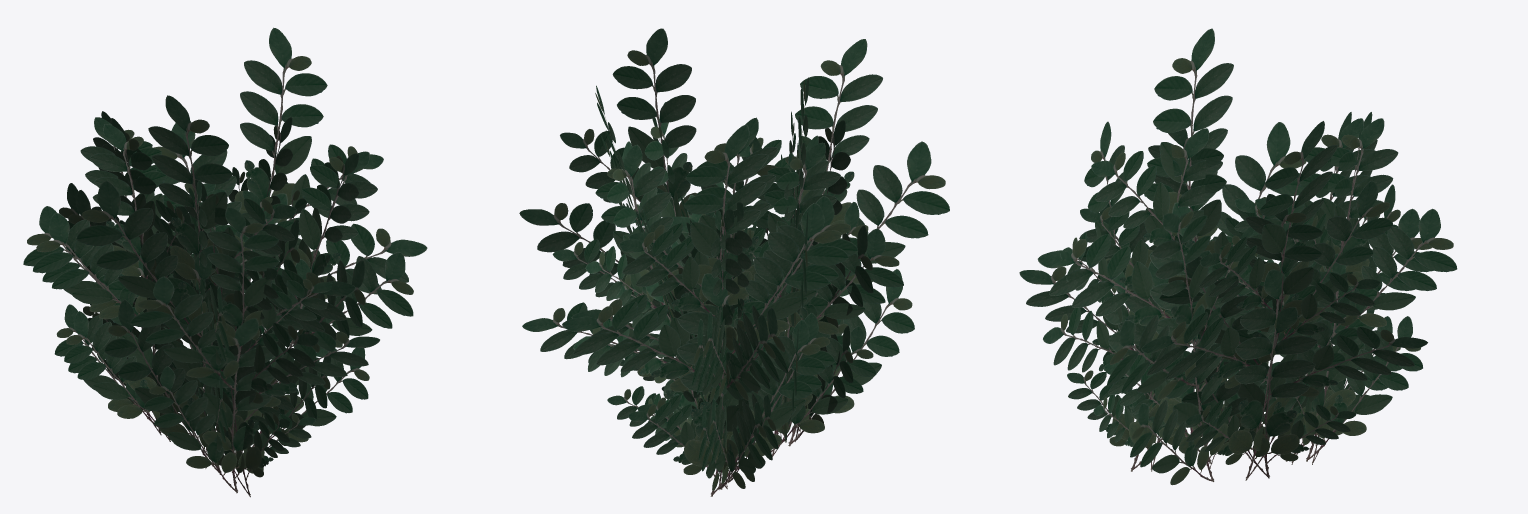
Rendered from big_foliage_01.glb.
3 renders of one model, left to right at view 1: azimuth 30°, elevation 25°; view 2: azimuth 150°, elevation 25°; view 3: azimuth 270°, elevation 25°, orthographic. The views are drawn at different scales.
Visible parts, largest first — view 1: Plane.089; view 2: Plane.089; view 3: Plane.089.
Part boxes in pixels (<box>): Plane.089: <box>23,27,427,497</box>; Plane.089: <box>519,28,949,496</box>; Plane.089: <box>1019,28,1457,485</box>.
Size of the model in its own units: 2.74 by 2.87 by 3.1.
Materials: 1 (1 with a texture image).
